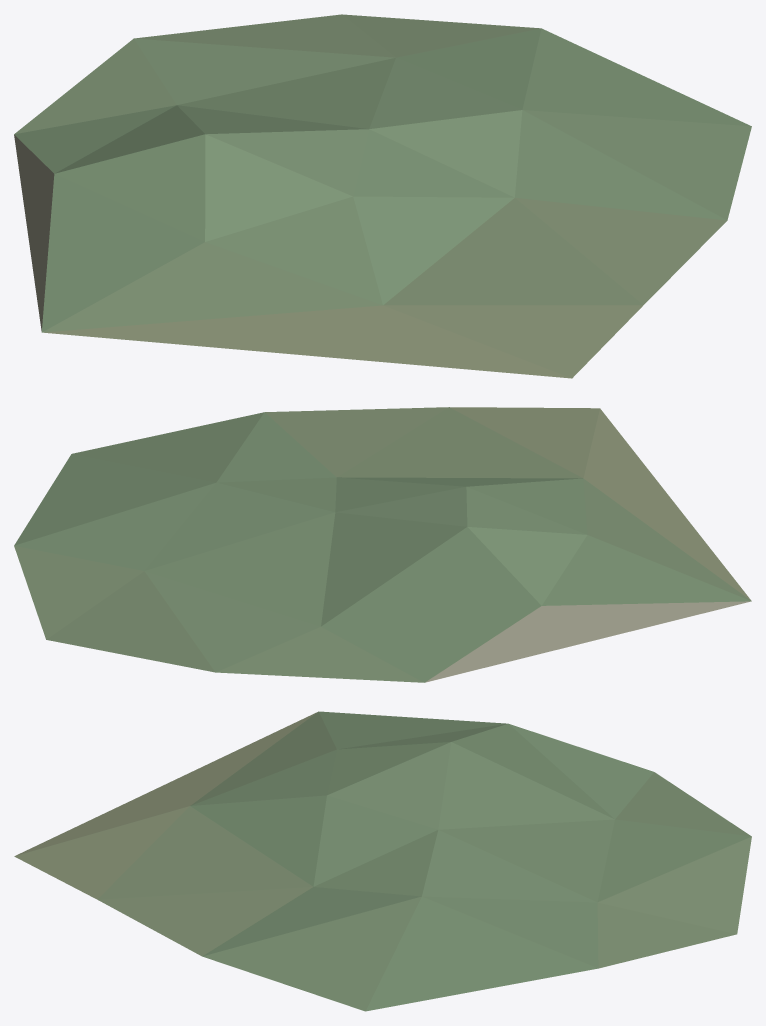
Rendered from kit_wet_a.glb.
The picture shows the model from 3 angles, top to bottom: view 1: azimuth 30°, elevation 25°; view 2: azimuth 150°, elevation 25°; view 3: azimuth 270°, elevation 25°; orthographic projection. The views are drawn at different scales.
Visible parts, largest first — view 1: kit_wet_a; view 2: kit_wet_a; view 3: kit_wet_a.
Boxes of the visible parts, box(x1,y1,x2,y2) form: kit_wet_a: box(14, 14, 751, 378); kit_wet_a: box(14, 407, 751, 682); kit_wet_a: box(14, 711, 751, 1011).
Size of the model in its own units: 33.96 by 3.61 by 34.71.
